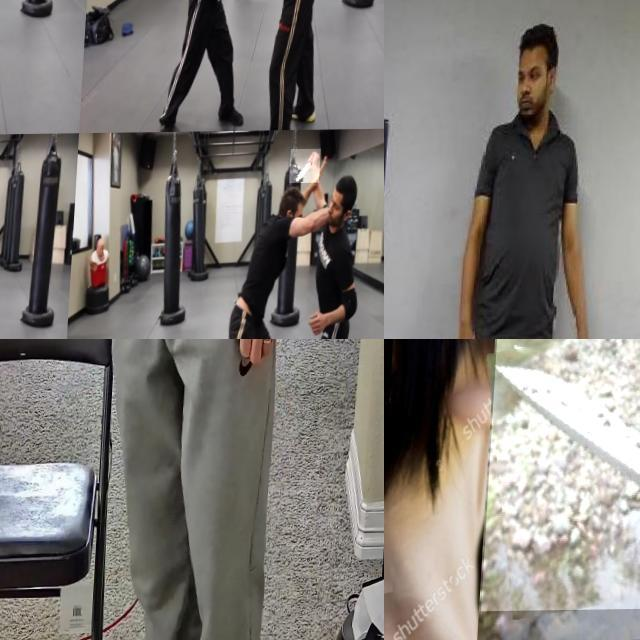-: (488, 339, 640, 612), (384, 339, 478, 620), (384, 339, 488, 420), (294, 150, 326, 184), (219, 0, 262, 21), (0, 267, 13, 314), (0, 0, 21, 20)
gun-knife-thesis - v11 Yolov5 augmented: (108, 339, 207, 430)
